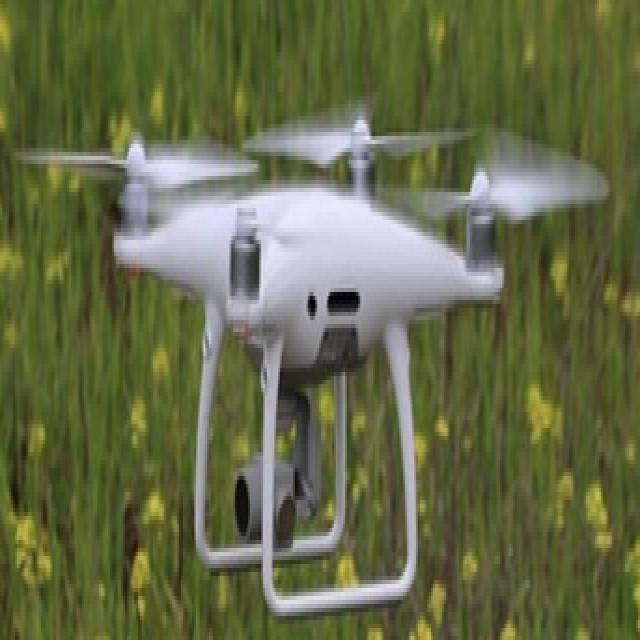drone: (9, 79, 614, 619)
